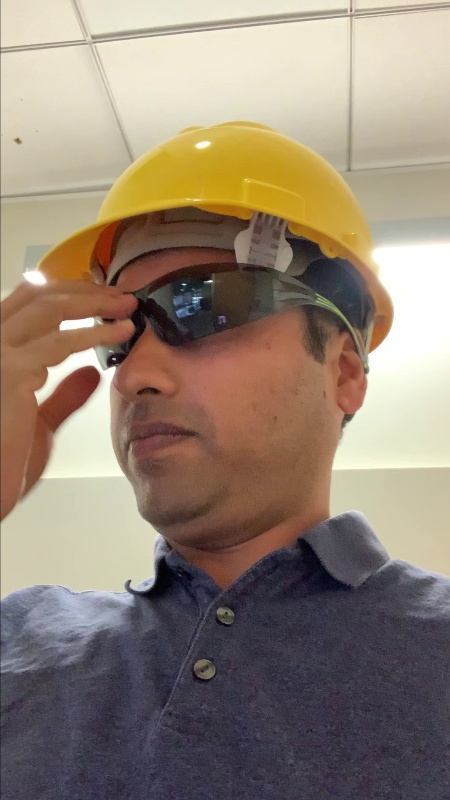glasses: (62, 273, 365, 360)
helmet: (20, 116, 402, 276)
